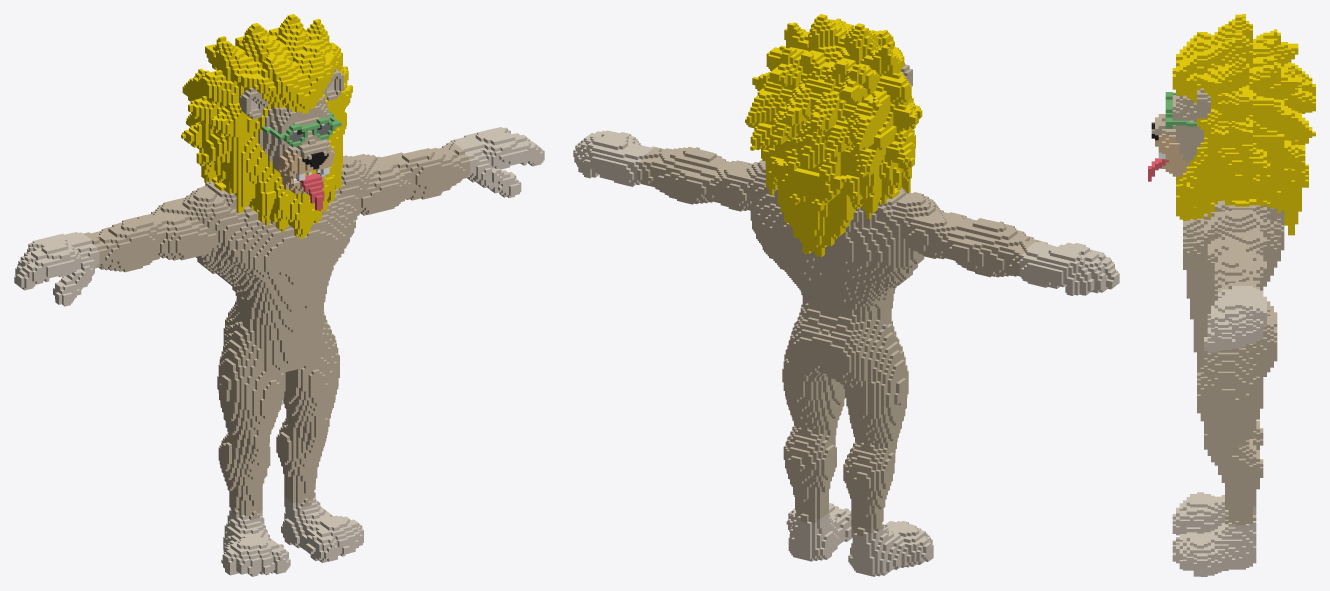
3 renders of one model, left to right at view 1: azimuth 30°, elevation 25°; view 2: azimuth 150°, elevation 25°; view 3: azimuth 270°, elevation 25°, orthographic. The views are drawn at different scales.
Parts seen in each view (by area): view 1: tongue_out; view 2: tongue_out; view 3: tongue_out.
Boxes of the visible parts, x1,y1,x2,y2 form: tongue_out: (14, 14, 544, 576); tongue_out: (573, 14, 1119, 576); tongue_out: (1148, 14, 1315, 576).
Bounding box in the file's own units: 17.2 × 16.5 × 4.8.
Materials: 4 (4 with a texture image).
